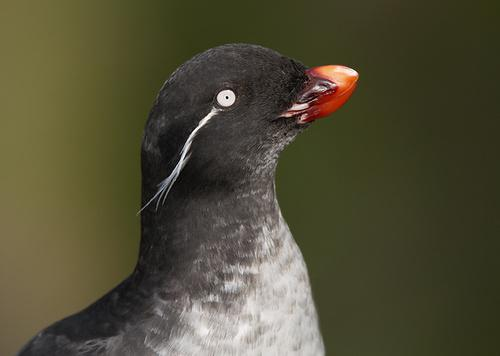007.Parakeet_Auklet: (16, 41, 361, 356)
